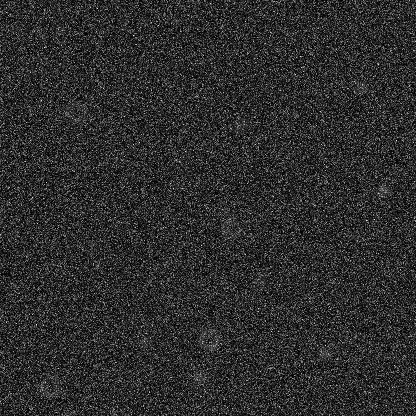Ring: (218, 217, 242, 241), (37, 374, 61, 398), (196, 326, 220, 350), (64, 99, 88, 123), (164, 159, 188, 183)
Spot: (316, 346, 332, 362), (50, 20, 66, 36), (231, 116, 247, 132), (286, 191, 302, 207), (190, 369, 206, 385), (374, 182, 390, 198), (352, 78, 368, 94), (136, 333, 152, 349), (254, 271, 270, 287)
